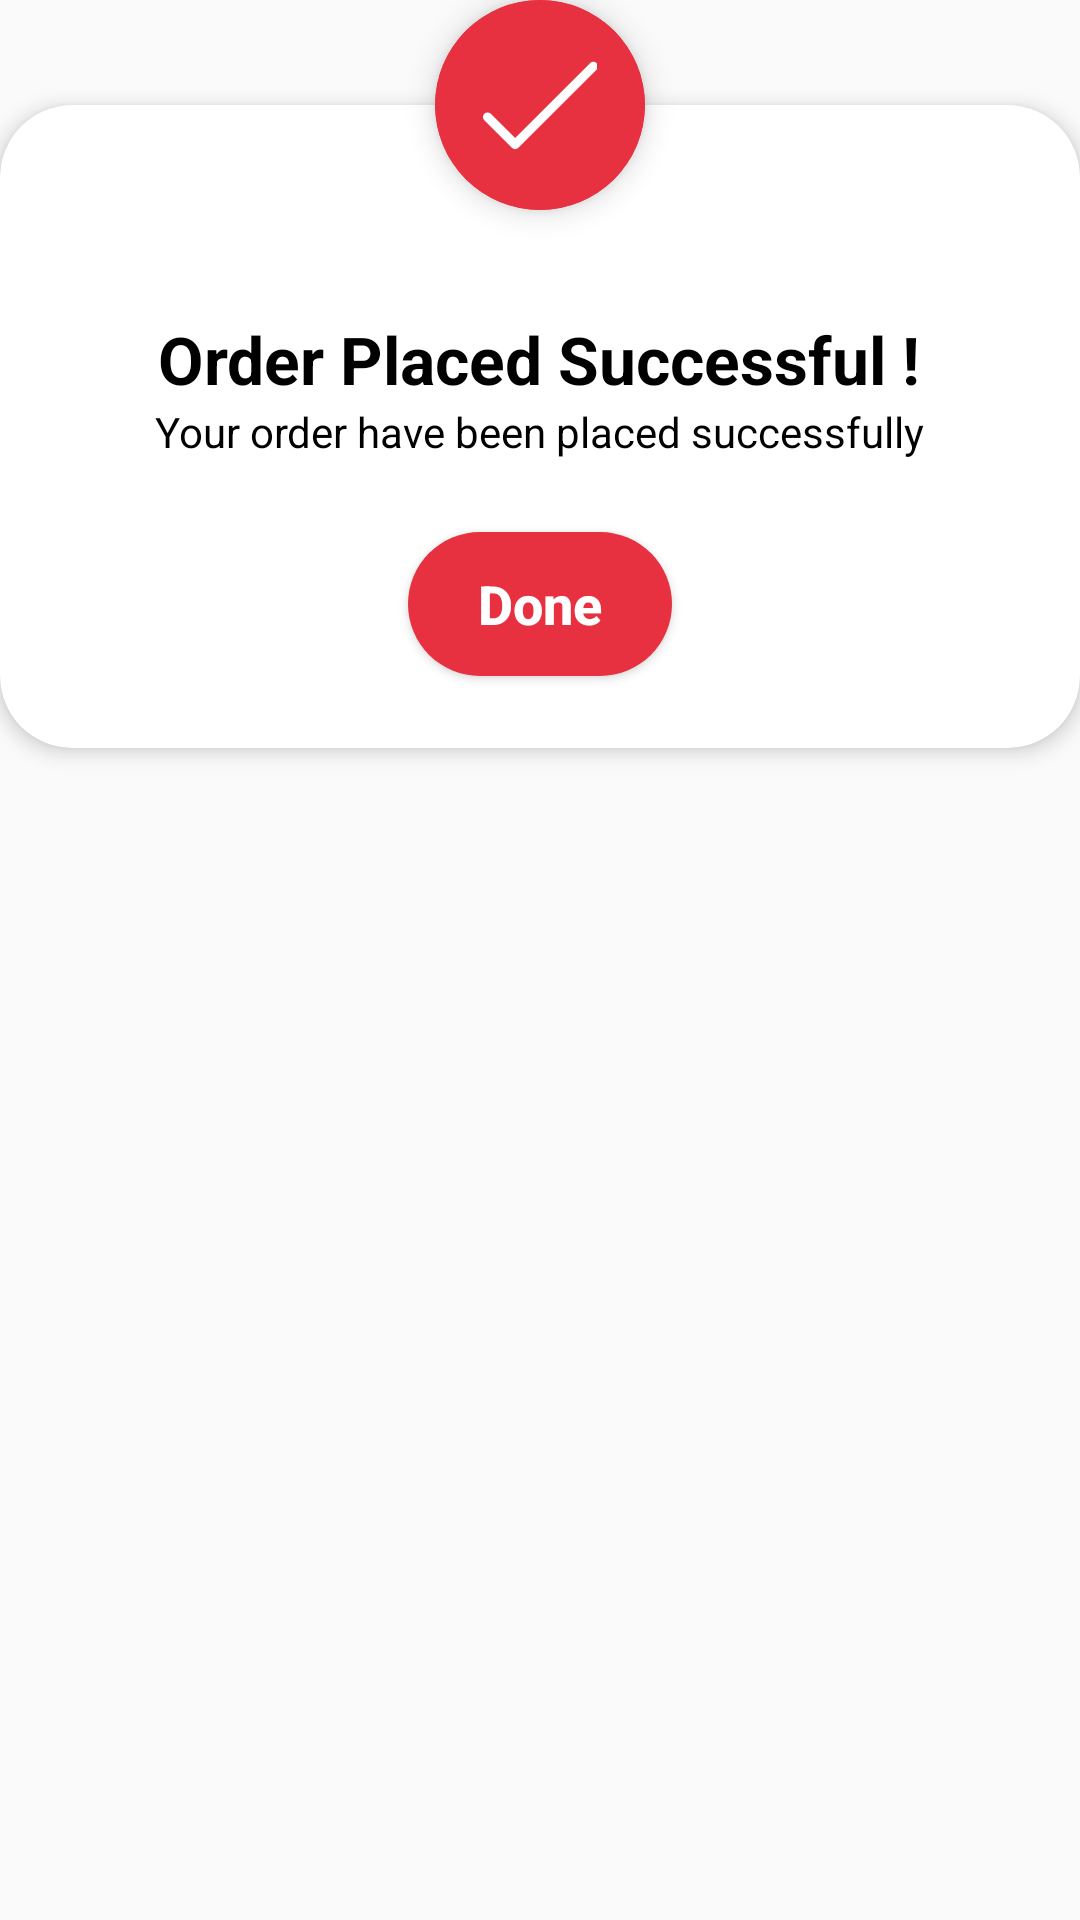

Screen size 1080×1920. Icon name, then its box in pixels as (x1, y1, x2, y2):
successs order: (435, 0, 645, 210)
